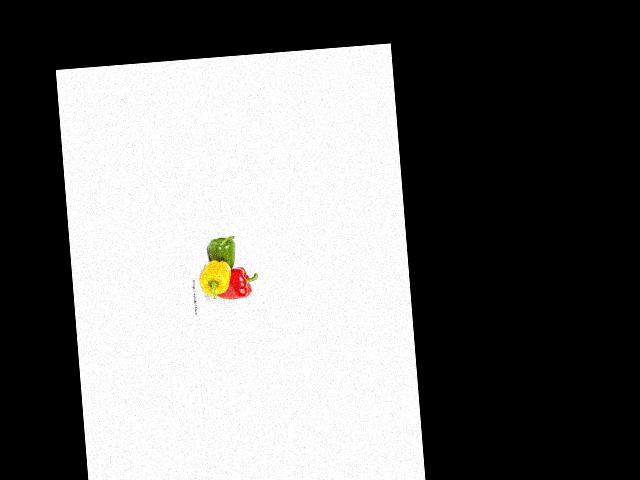bell_pepper: (217, 265, 260, 303)
